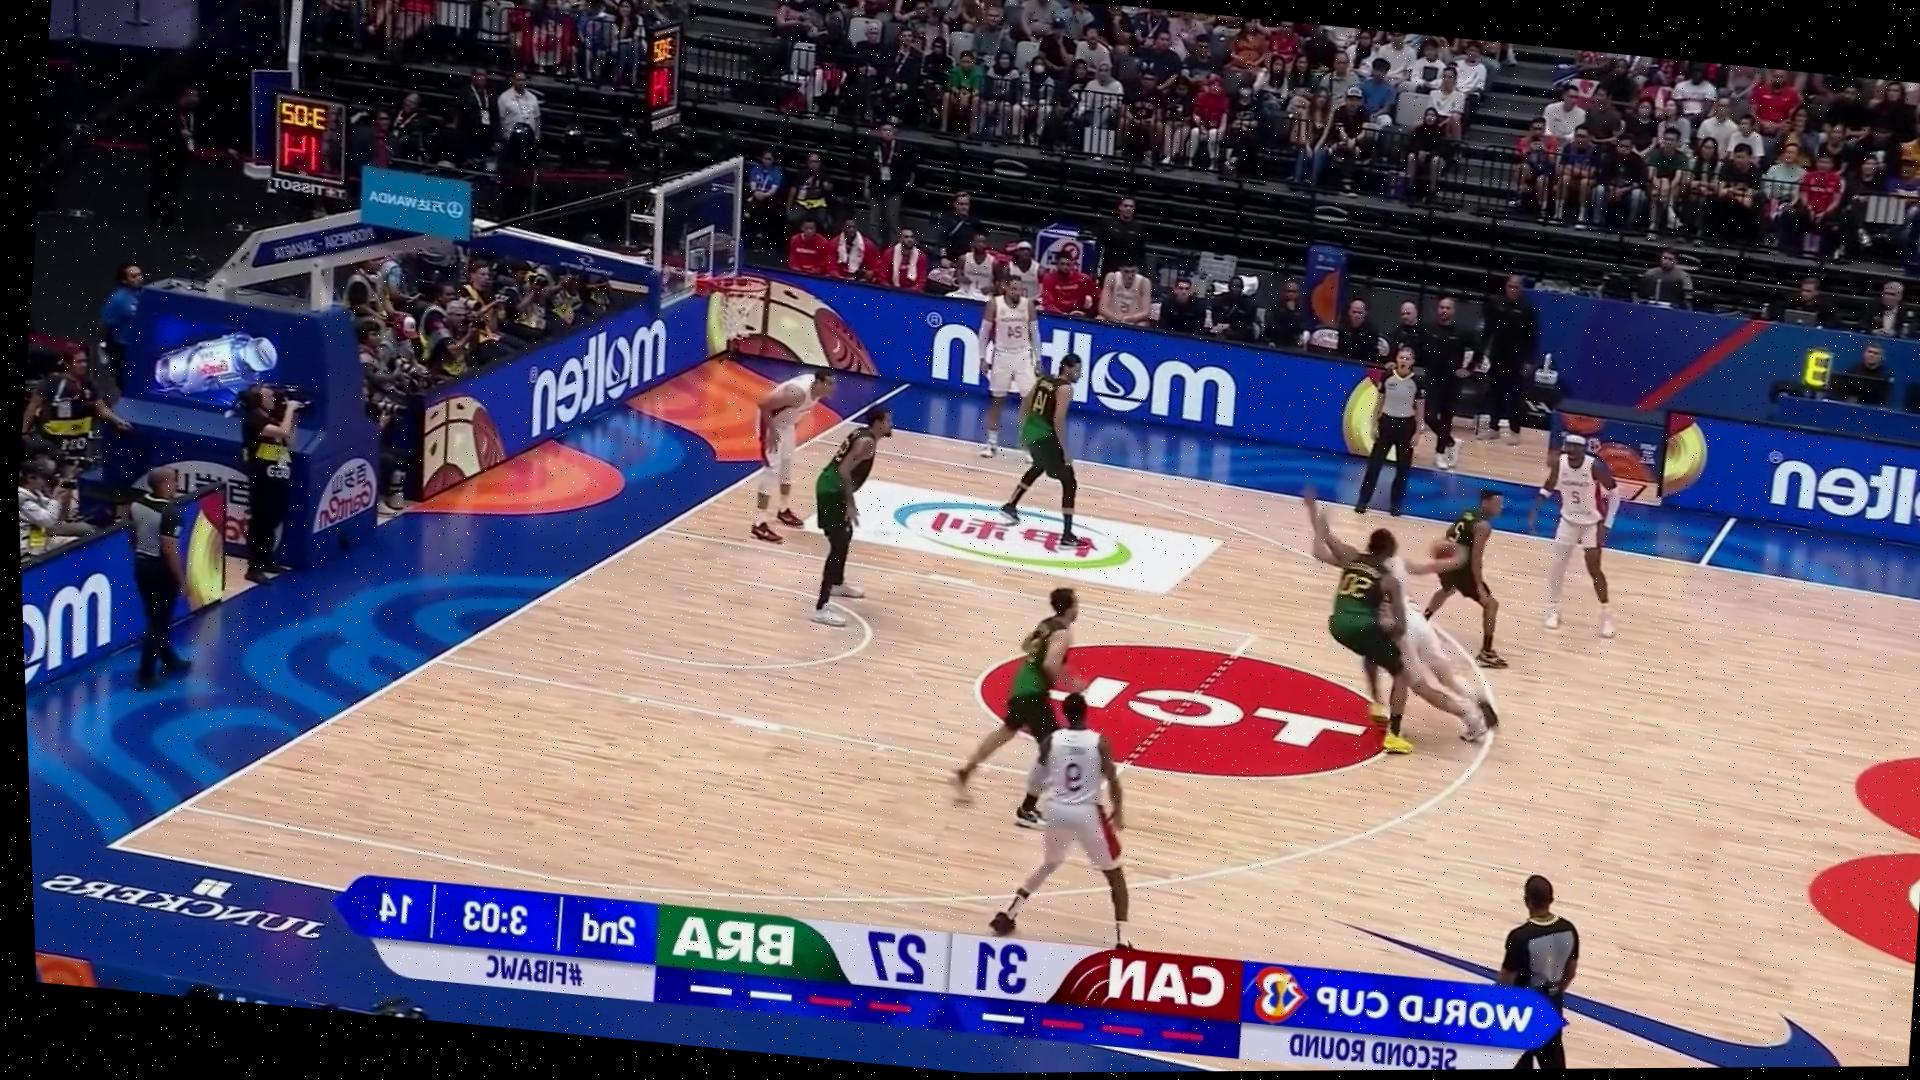foul: (1265, 460, 1531, 774)
